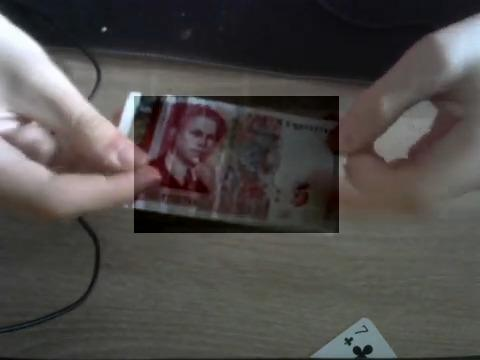5leva: (134, 96, 339, 233)
